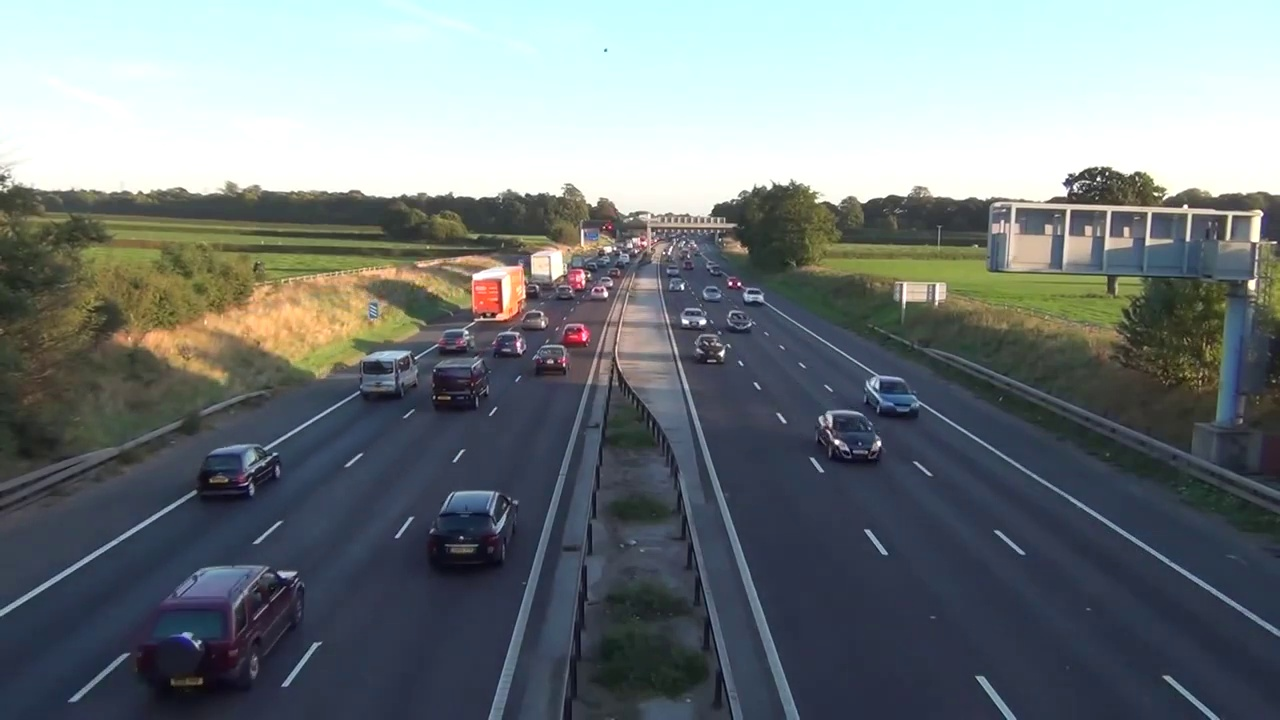bus: (133, 557, 318, 707), (423, 488, 526, 573), (188, 440, 290, 502), (814, 405, 882, 470), (861, 372, 921, 422), (533, 343, 572, 377), (438, 325, 477, 355), (491, 331, 531, 360), (693, 332, 727, 364), (677, 306, 710, 331), (561, 322, 592, 348), (724, 310, 752, 333), (520, 310, 550, 331), (742, 288, 765, 305), (554, 284, 576, 301), (702, 286, 722, 303), (524, 281, 544, 298), (590, 286, 608, 301), (668, 278, 685, 292), (596, 276, 614, 289), (726, 276, 743, 289), (606, 268, 622, 278), (709, 264, 723, 275), (683, 259, 694, 272), (666, 265, 680, 275), (586, 262, 598, 273), (562, 263, 571, 275), (705, 260, 716, 268), (584, 272, 592, 282)
car: (471, 265, 526, 321), (531, 250, 566, 289), (572, 255, 585, 270)
lorry: (431, 356, 490, 411), (358, 350, 422, 399), (566, 268, 587, 293)
